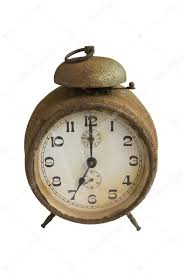alarm_clock: (25, 42, 158, 229), (41, 42, 158, 229)
